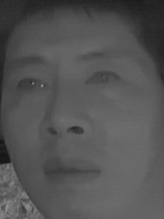eye: (82, 67, 125, 90), (13, 73, 50, 97)
mouth: (42, 150, 105, 188)
